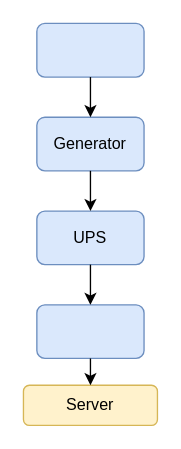
The diagram is 181 pixels wide and 449 high, and some of its shapes have lost their labels. Each missing label, with the centre of its shape:
PDU: pixel 90 331
Utility Feed: pixel 90 49
